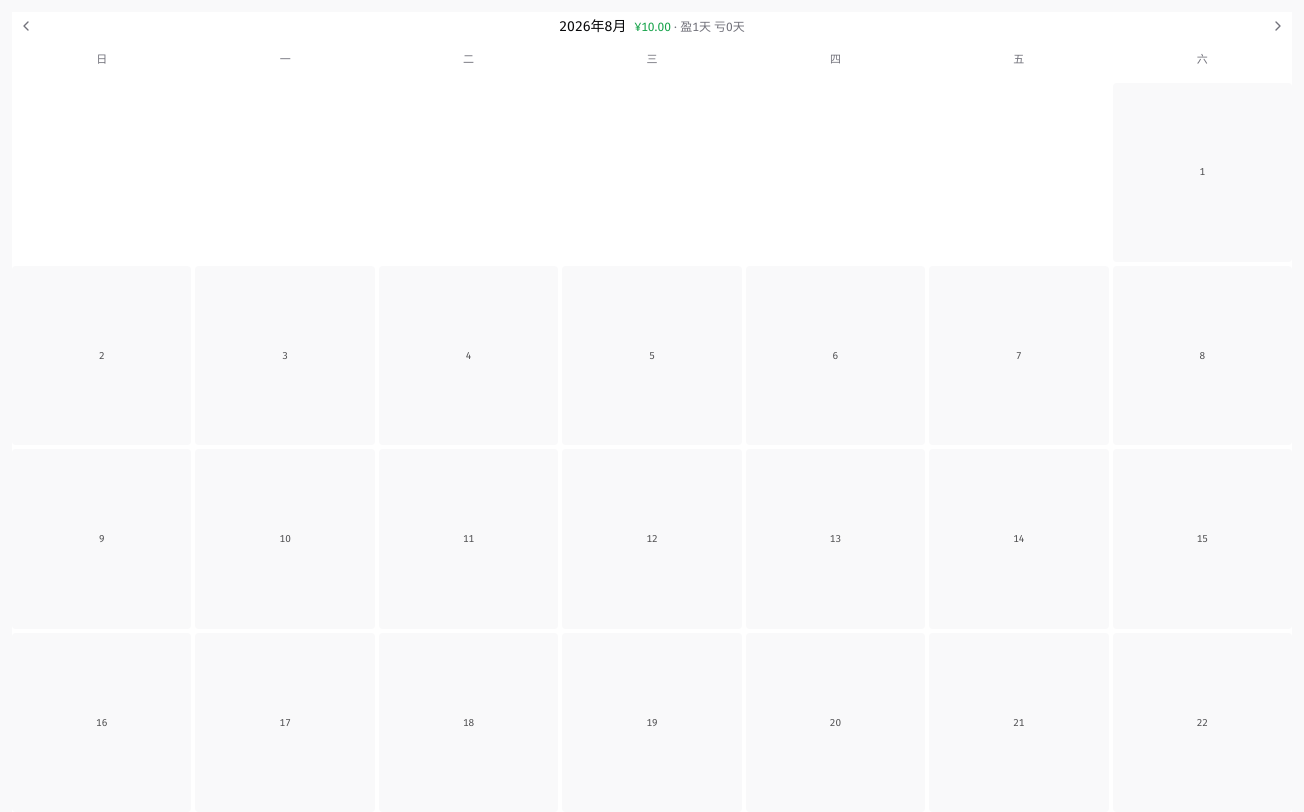
Test case: PnLCalendar 默认定位 › 数据首次定位后，后续数据更新不覆盖用户手动翻页
Later steps or results of the test are not shown.
Expected: the text "2026年8月" is shown, 559,18 -> 626,35
用户手动翻到 10 月
Click the button titled "下一月" at point(1278, 26), box 1264,12 -> 1292,40
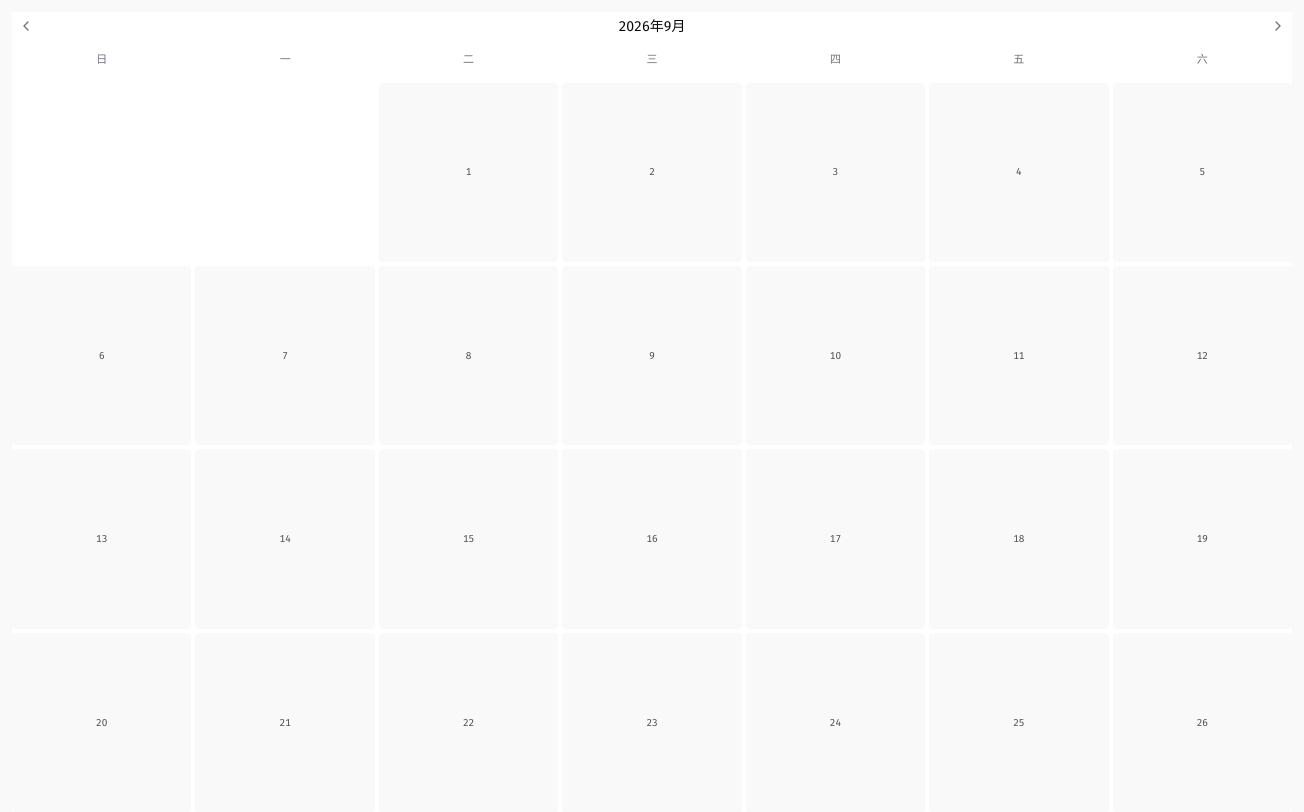
Click the button titled "下一月" at point(1278, 26), box 1264,12 -> 1292,40
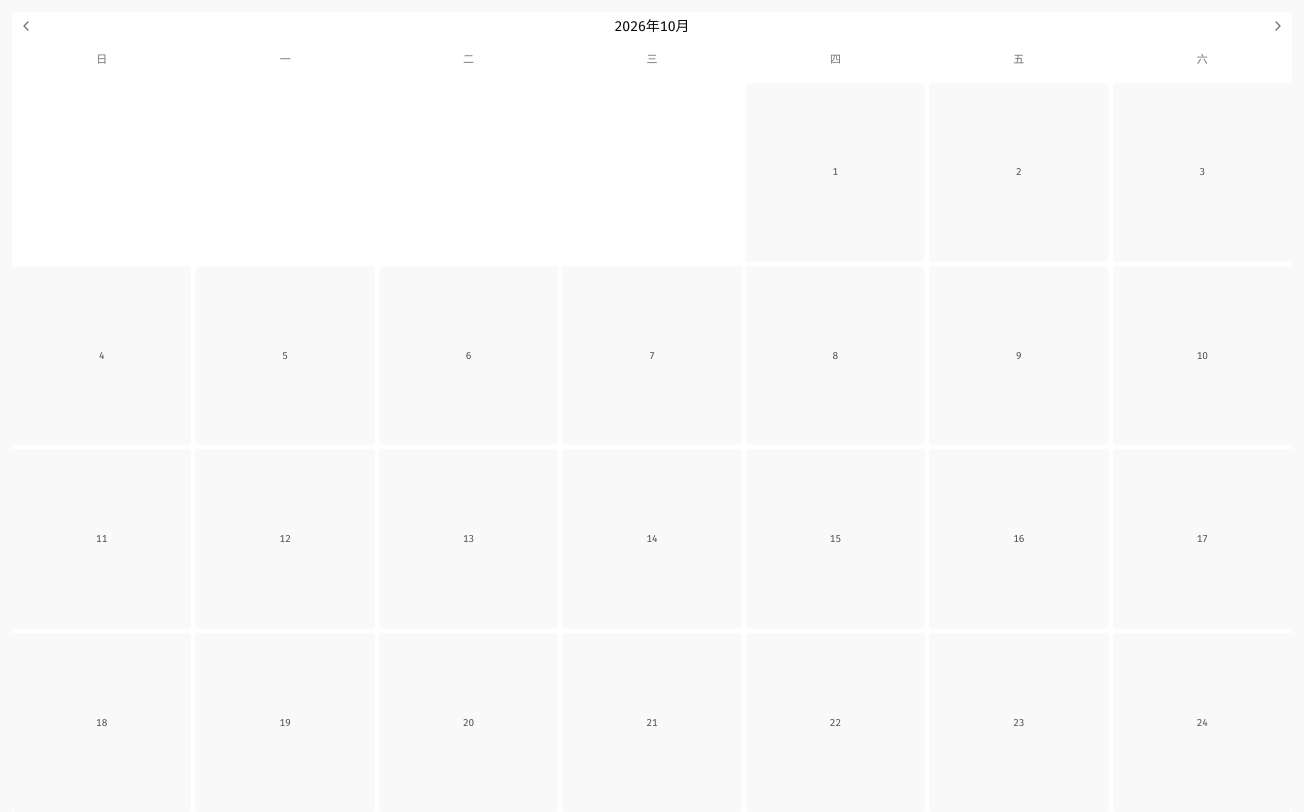
Now the text "2026年10月" is shown, box 614,18 -> 690,35
